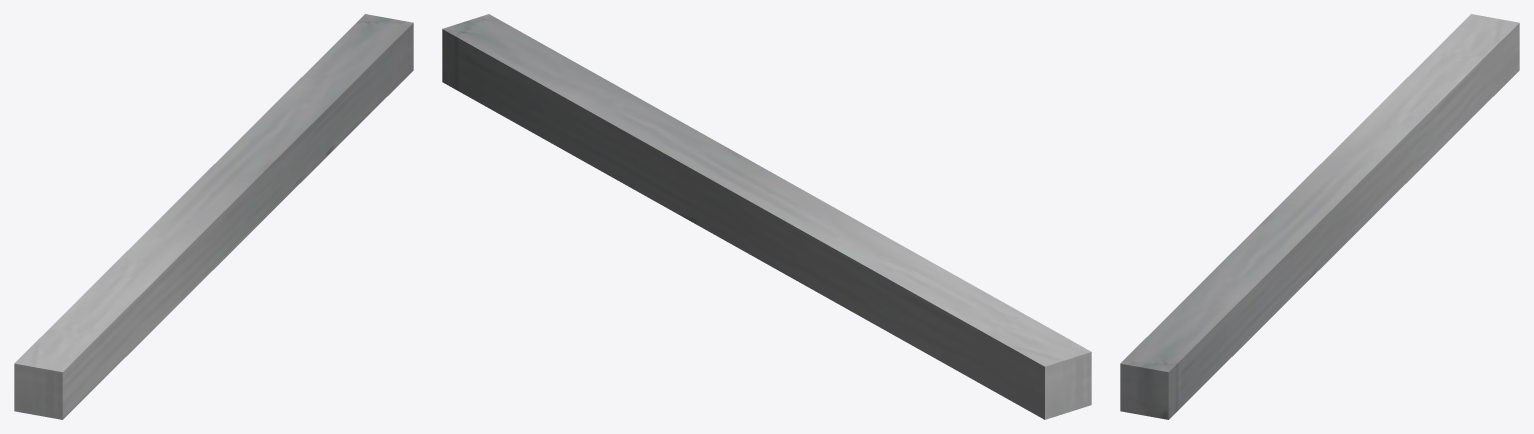
File: frame__rear_diagonal.glb
The picture shows the model from 3 angles, left to right: view 1: azimuth 90°, elevation 25°; view 2: azimuth 150°, elevation 25°; view 3: azimuth 270°, elevation 25°; orthographic projection. The views are drawn at different scales.
Visible parts, largest first — view 1: geometry_0; view 2: geometry_0; view 3: geometry_0.
Boxes of the visible parts, bbox=[...] form: geometry_0: bbox=[14, 14, 413, 419]; geometry_0: bbox=[442, 14, 1091, 419]; geometry_0: bbox=[1120, 14, 1519, 419].
Bounding box in the file's own units: 0.6764 × 0.042 × 0.3187.
1 material, 1 textured.
